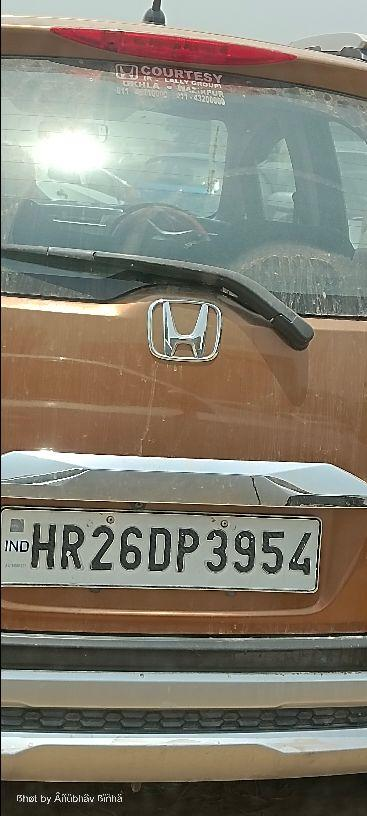license_plate: (1, 458, 365, 636), (1, 504, 323, 594)
